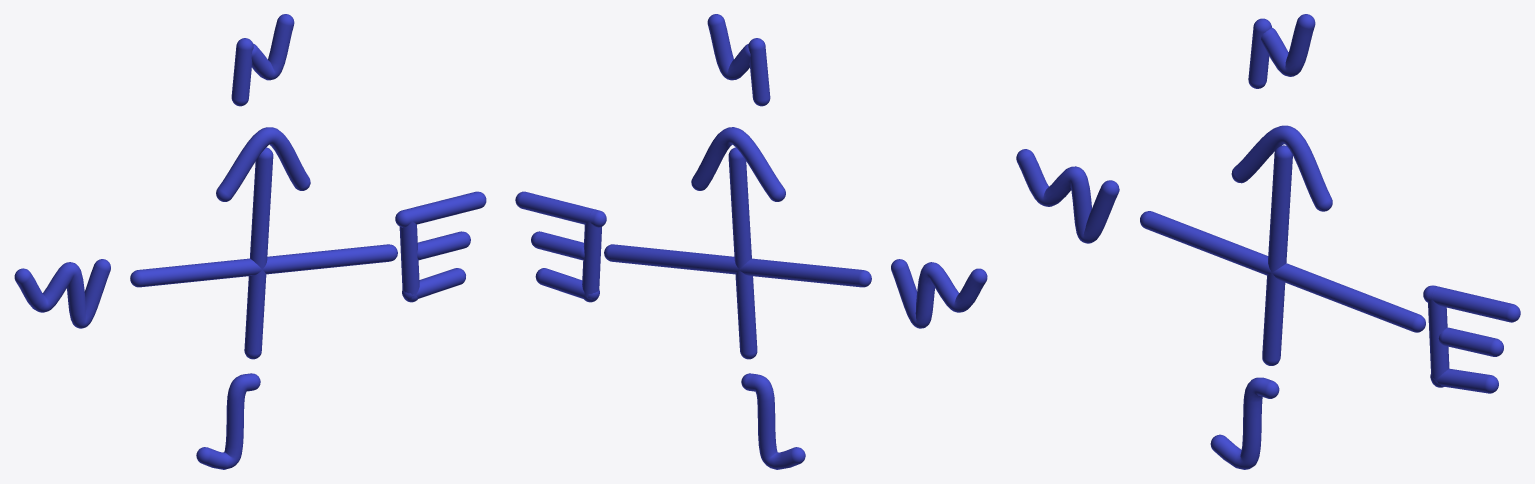
Rendered from compass.fbx.
The picture shows the model from 3 angles, left to right: view 1: azimuth 30°, elevation 25°; view 2: azimuth 150°, elevation 25°; view 3: azimuth 330°, elevation 25°; orthographic projection. The views are drawn at different scales.
Visible parts, largest first — view 1: node_id30 (×11); view 2: node_id30 (×11); view 3: node_id30 (×11).
Part boxes in pixels (x1=…): node_id30 (×11): x1=14, y1=14, x2=486, y2=469; node_id30 (×11): x1=515, y1=14, x2=987, y2=469; node_id30 (×11): x1=1016, y1=14, x2=1520, y2=469.
Size of the model in its own units: 0.6784 by 0.6061 by 0.0218.
